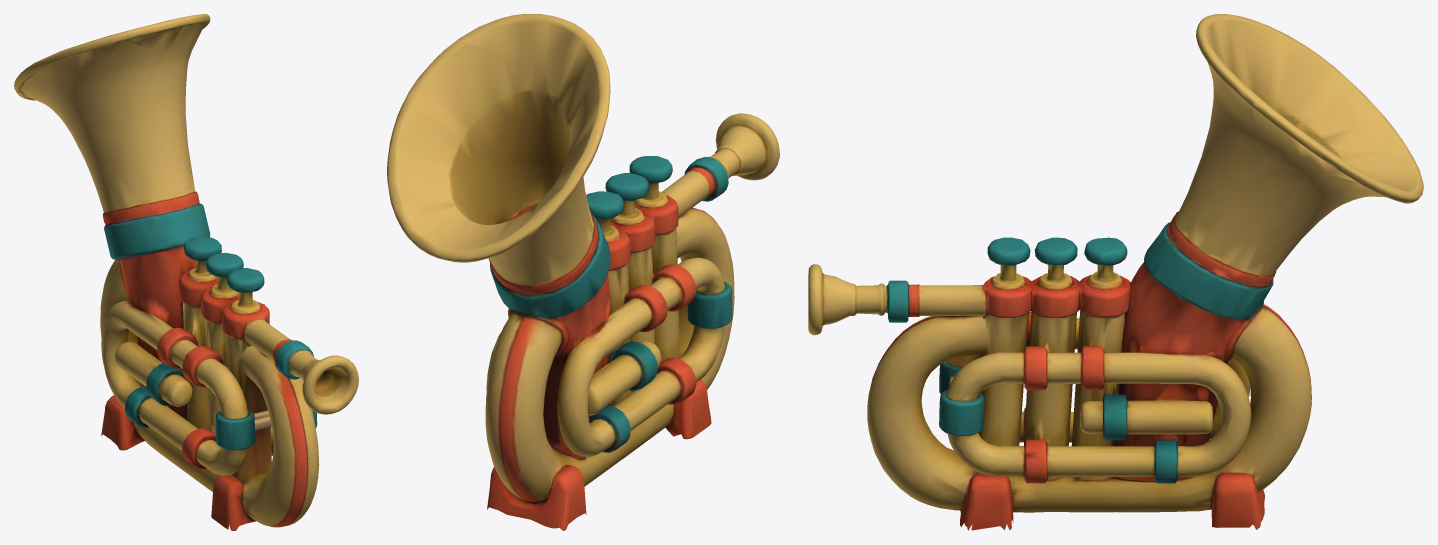
Rendered from tuba.glb.
3 views of the same model, side by side, from view 1: azimuth 30°, elevation 25°; view 2: azimuth 150°, elevation 25°; view 3: azimuth 270°, elevation 25° (orthographic). The views are drawn at different scales.
Parts seen in each view (by area): view 1: tripo_node_17af2eb6-1999-4e3a-a018-22662a6b7a61; view 2: tripo_node_17af2eb6-1999-4e3a-a018-22662a6b7a61; view 3: tripo_node_17af2eb6-1999-4e3a-a018-22662a6b7a61.
Part boxes in pixels (x1,y1,x2,y2): tripo_node_17af2eb6-1999-4e3a-a018-22662a6b7a61: (14, 14, 358, 530); tripo_node_17af2eb6-1999-4e3a-a018-22662a6b7a61: (387, 14, 779, 530); tripo_node_17af2eb6-1999-4e3a-a018-22662a6b7a61: (808, 14, 1423, 530).
Size of the model in its own units: 0.3609 by 0.8647 by 1.
Materials: 1 (1 with a texture image).
